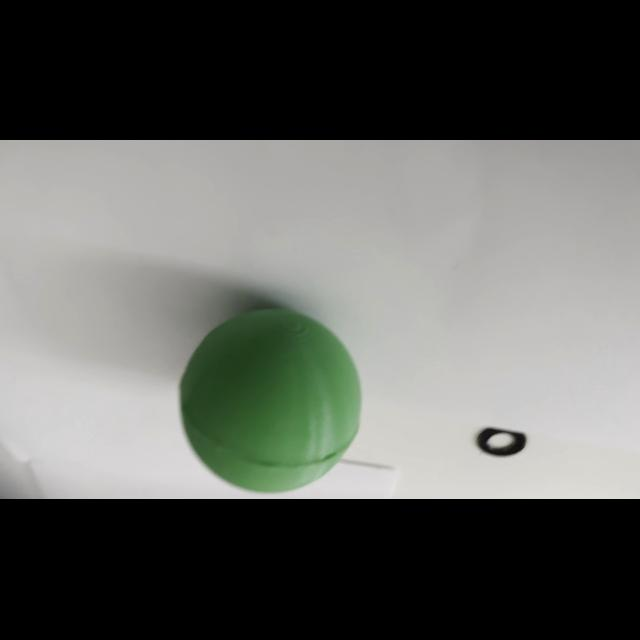objects: (176, 302, 367, 496)
